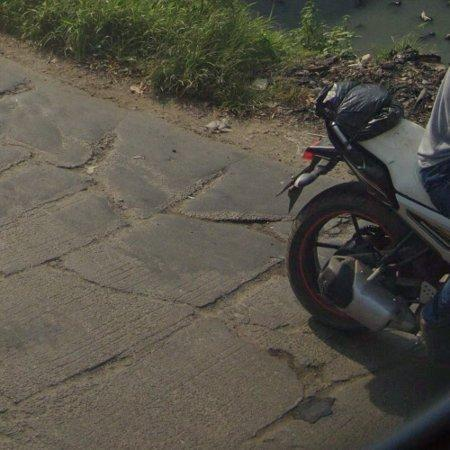motorcycles: (287, 81, 450, 369)
